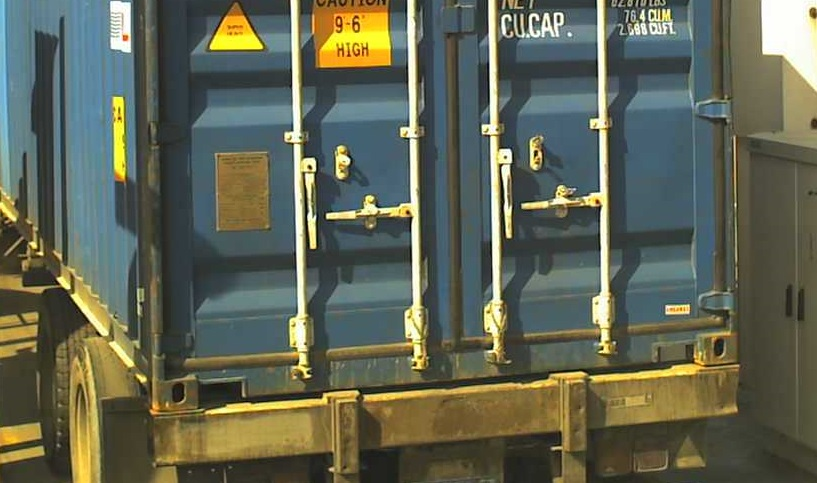container_door: (148, 2, 736, 410)
